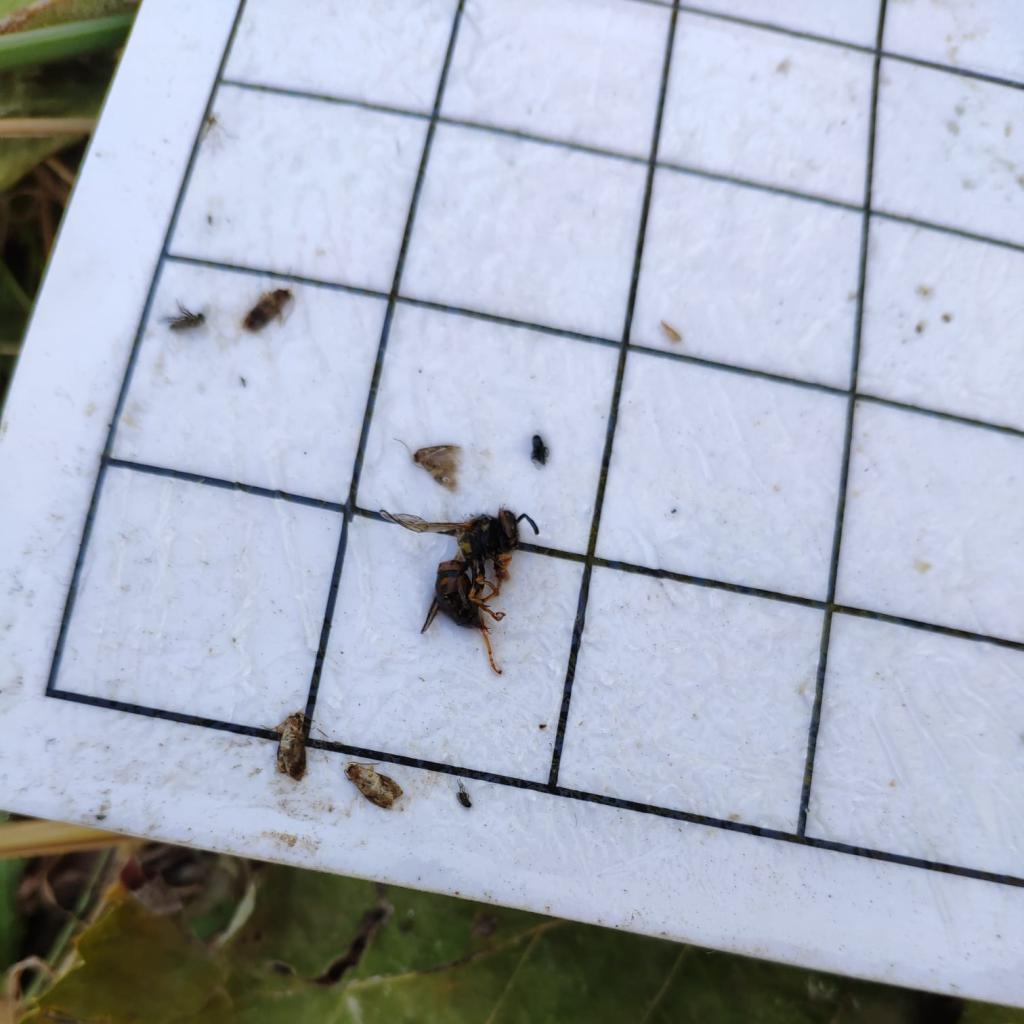grape_moth: (390, 436, 466, 496), (258, 710, 314, 784), (340, 757, 406, 814)
